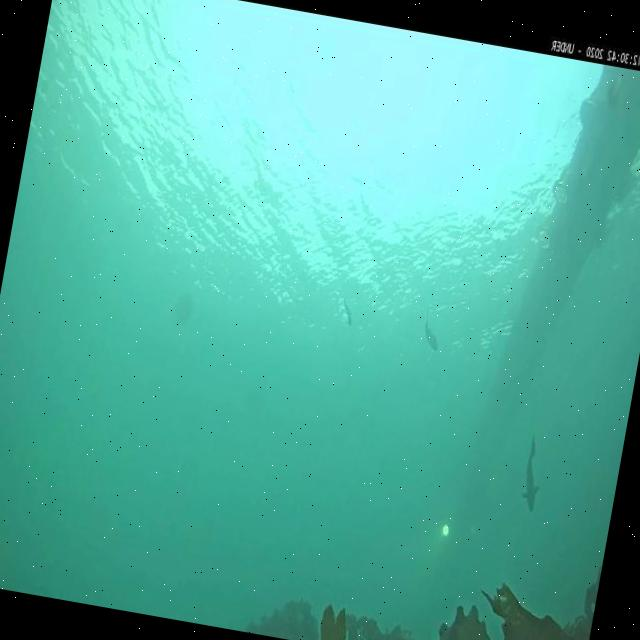fish: (516, 436, 548, 513), (418, 314, 443, 352), (338, 297, 356, 328)
